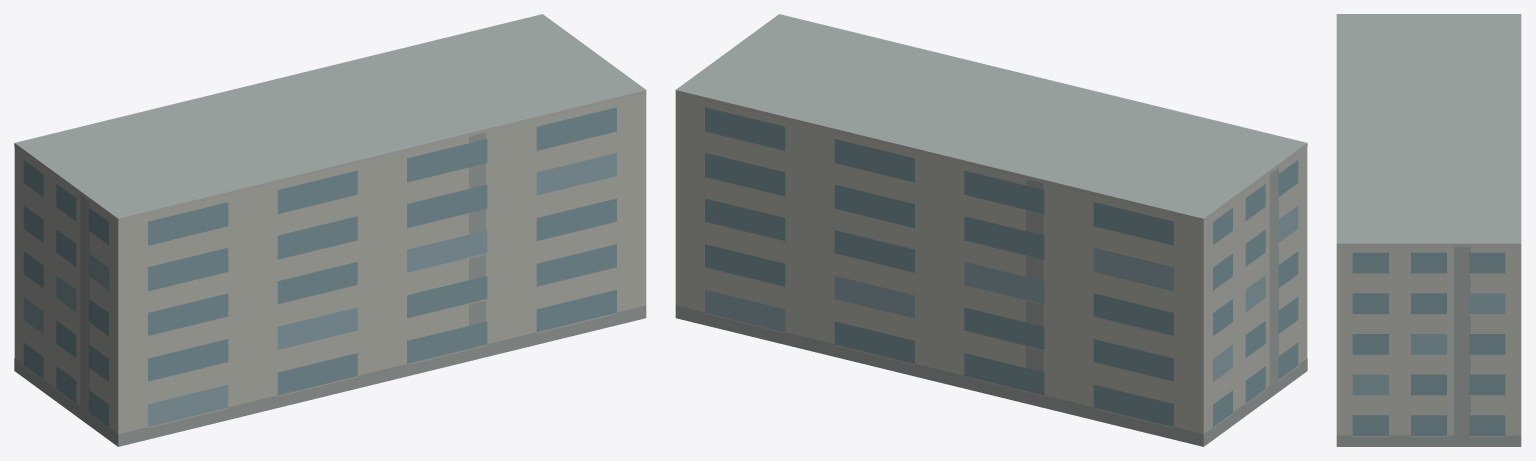
File: residential-b610c96c-ba9d-4970-b094-467162746e6a.glb
3 views of the same model, side by side, from view 1: azimuth 30°, elevation 25°; view 2: azimuth 150°, elevation 25°; view 3: azimuth 270°, elevation 25° (orthographic). The views are drawn at different scales.
Visible parts, largest first — view 1: residential-b610c96c-ba9d-4970-b094-467162746e6a.tmp; view 2: residential-b610c96c-ba9d-4970-b094-467162746e6a.tmp; view 3: residential-b610c96c-ba9d-4970-b094-467162746e6a.tmp.
Part boxes in pixels (bbox=[...]): residential-b610c96c-ba9d-4970-b094-467162746e6a.tmp: bbox=[14, 14, 646, 446]; residential-b610c96c-ba9d-4970-b094-467162746e6a.tmp: bbox=[675, 14, 1307, 446]; residential-b610c96c-ba9d-4970-b094-467162746e6a.tmp: bbox=[1336, 14, 1521, 446].
Size of the model in its own units: 36.98 by 15.25 by 12.6.
